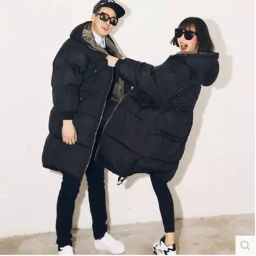face: (171, 15, 218, 59), (85, 1, 126, 45)
